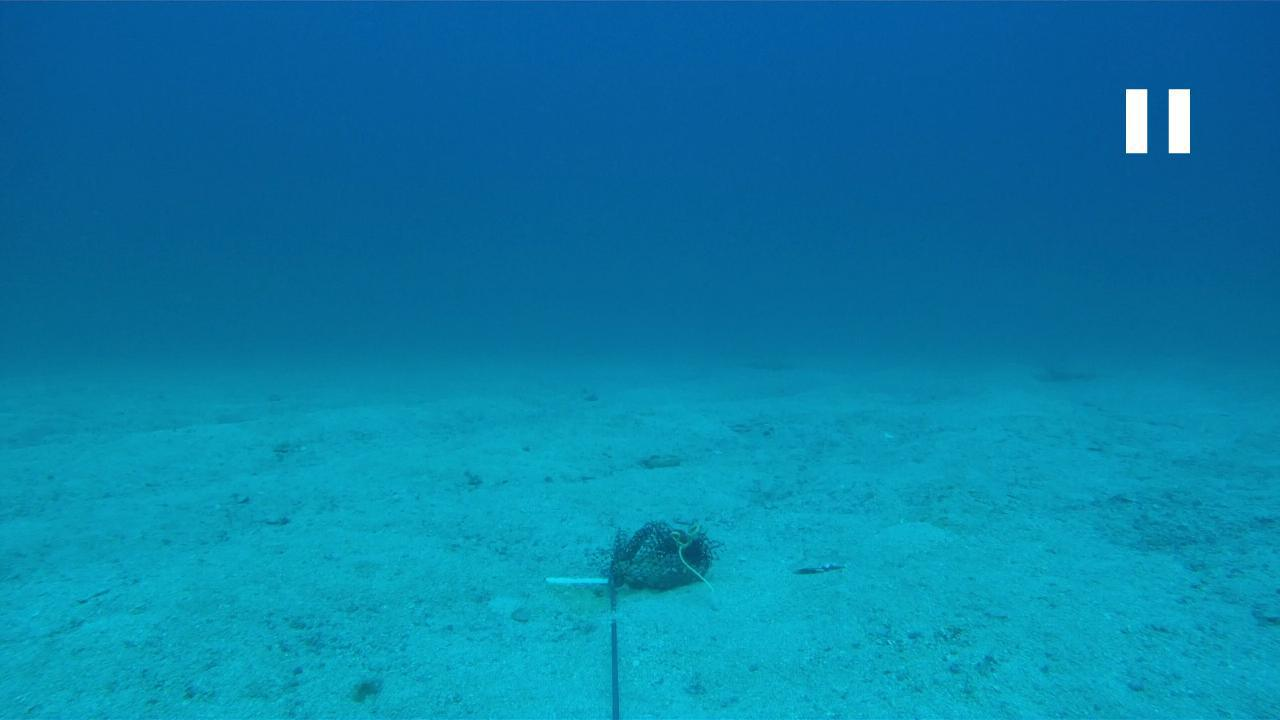bothus: (778, 545, 854, 571)
